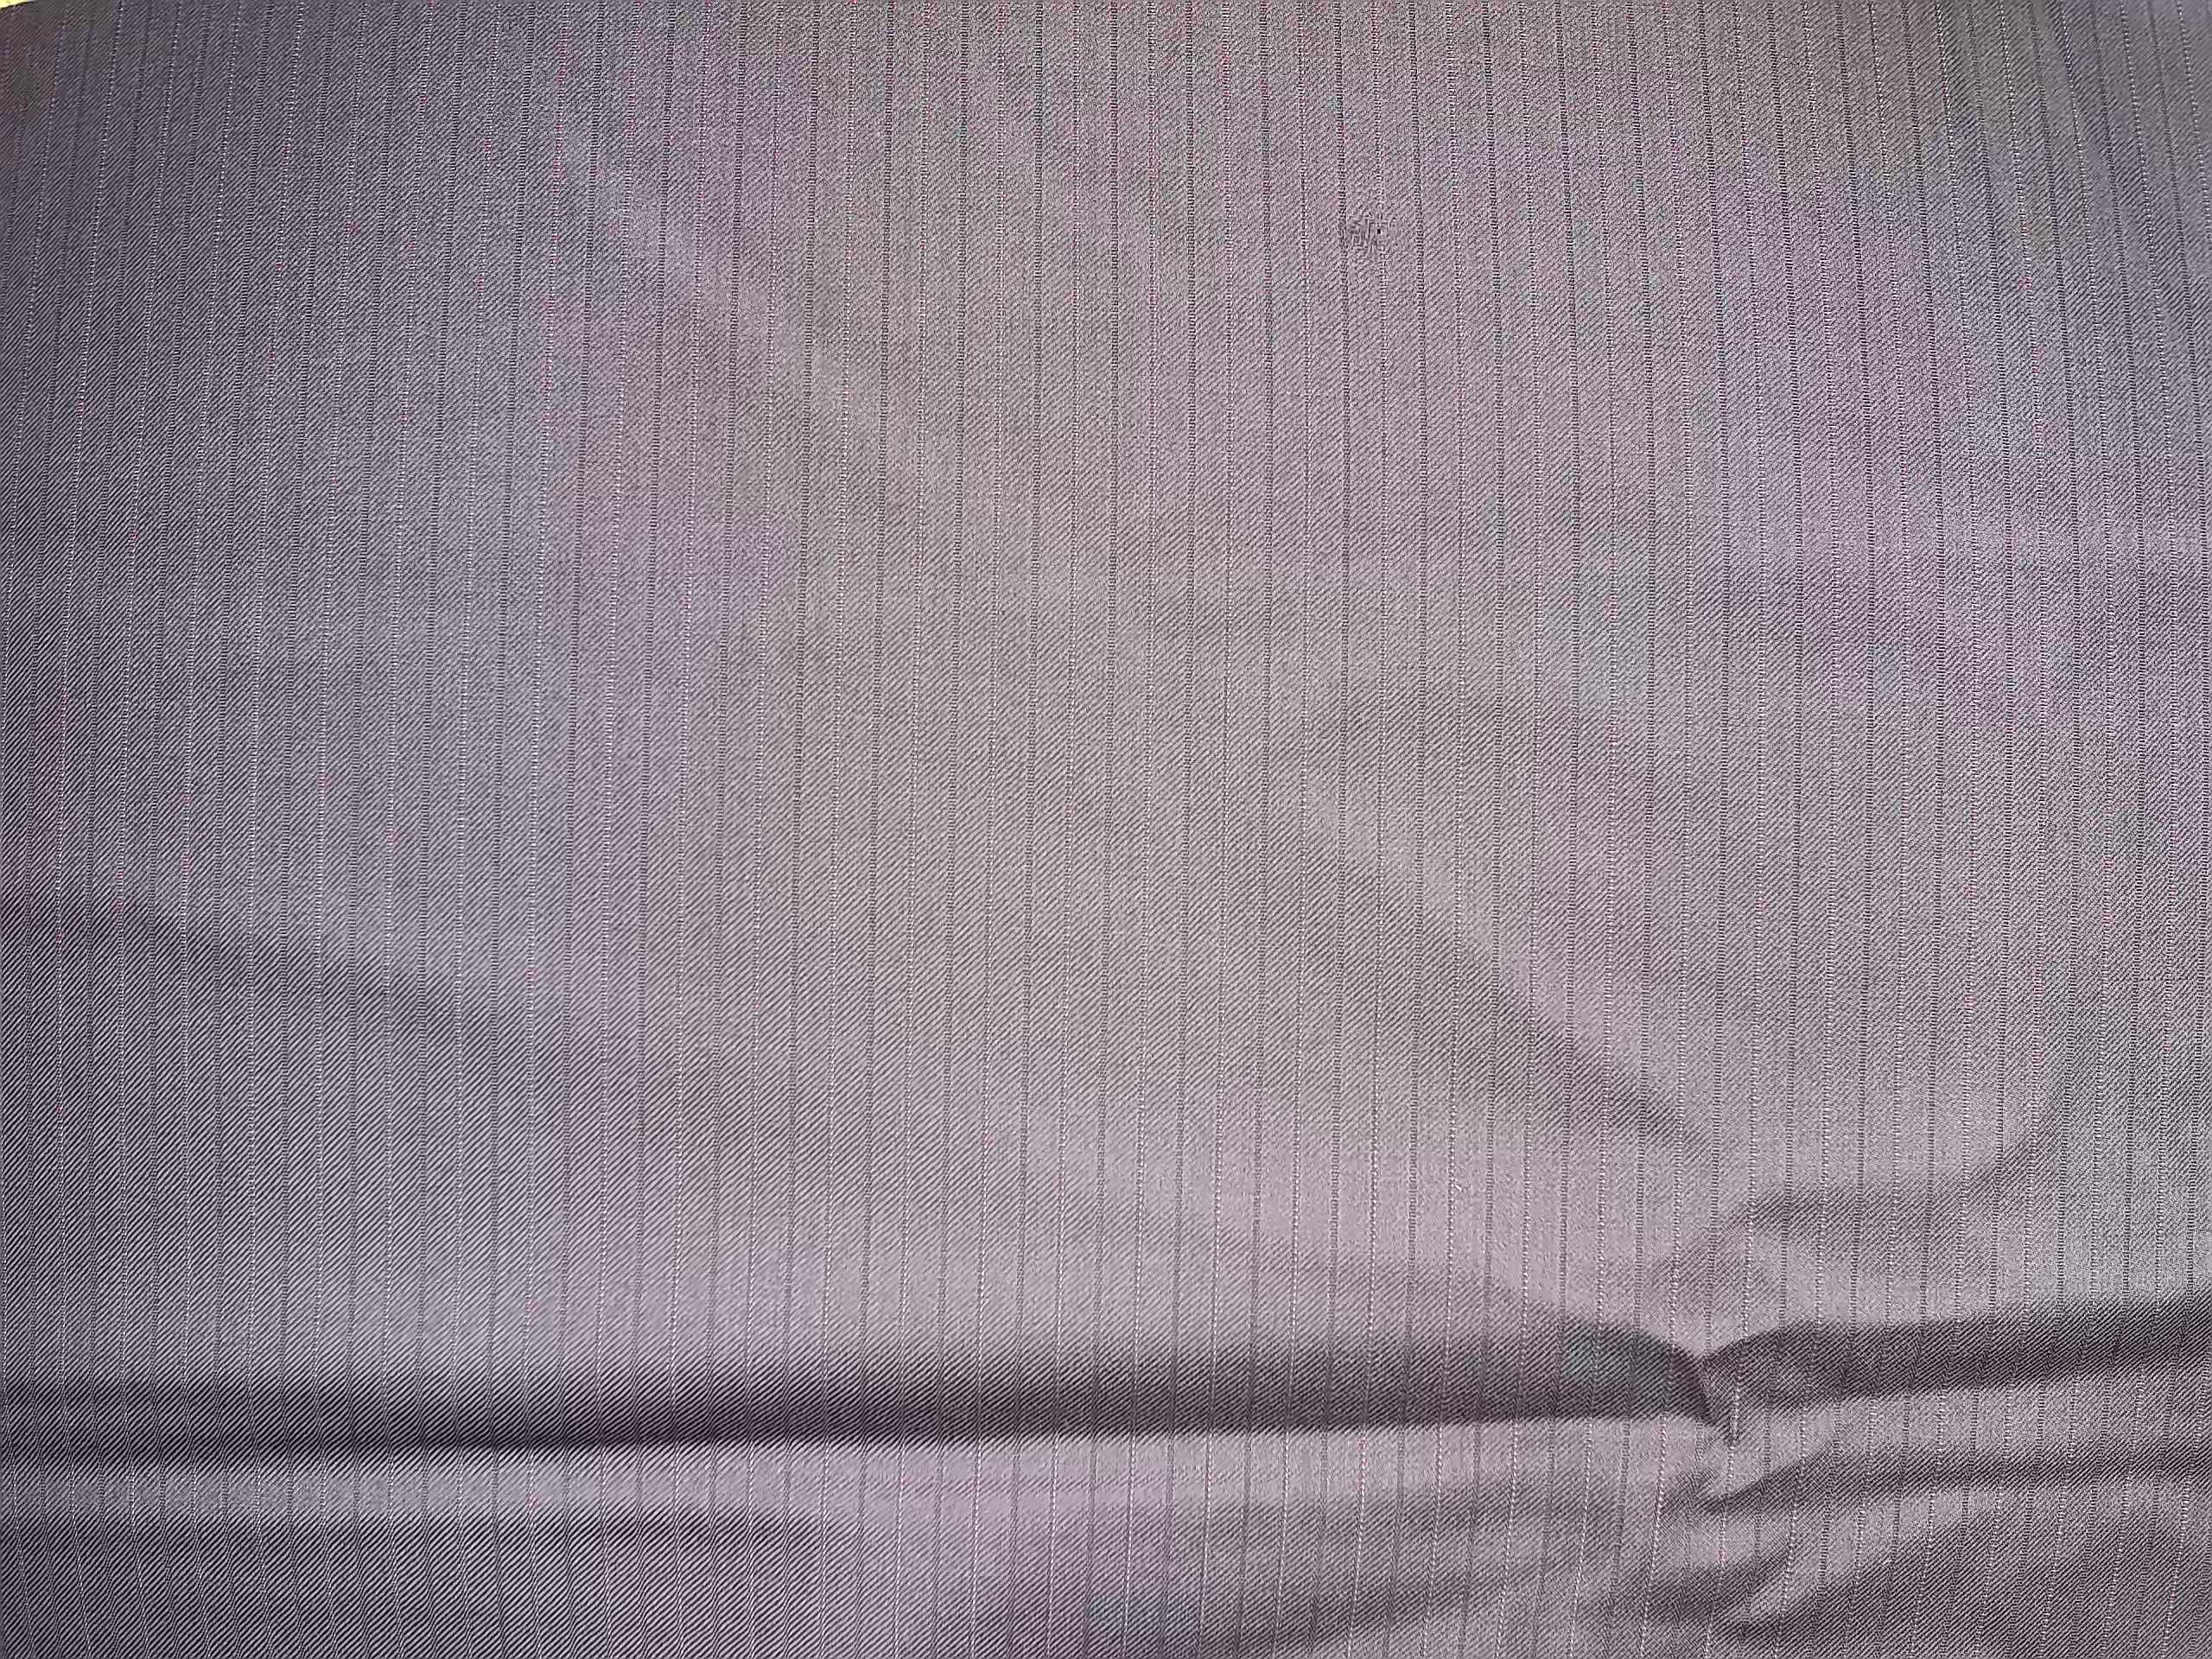rubbing-hole: (1318, 188, 1413, 284)
